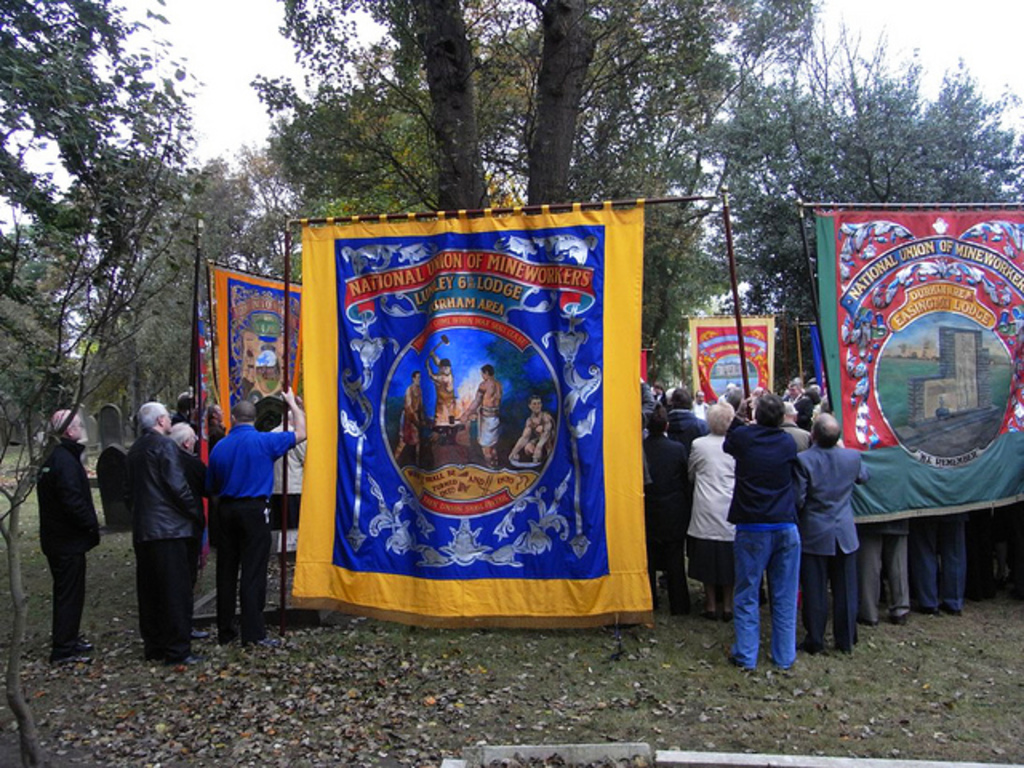Tree: (230, 0, 836, 494), (699, 20, 1022, 590), (0, 0, 214, 766), (91, 147, 307, 419)
